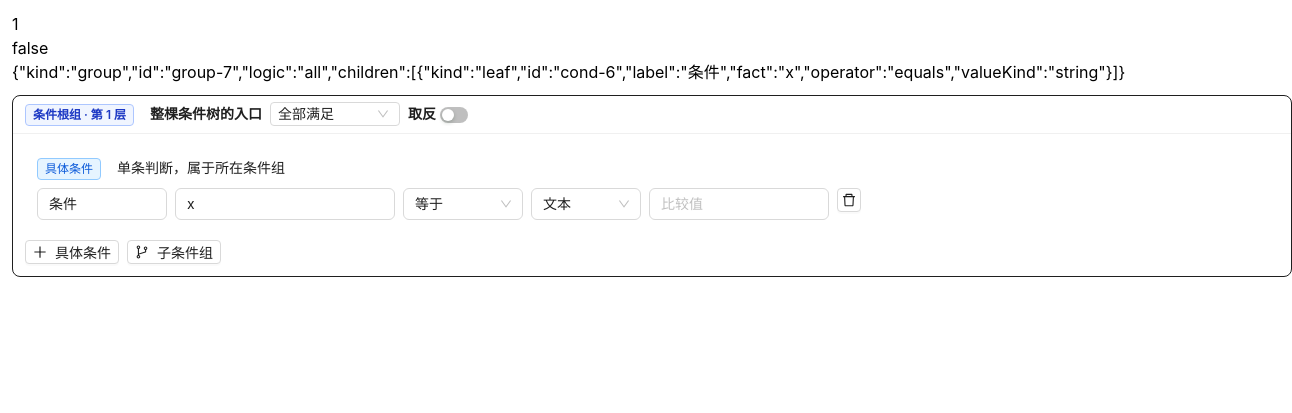
Scenario: ConditionTreeEditor（P1-2 递归条件树组件） › 新增条件后叶子数增加
Expected: the text with test id "leaf-count" reads "1", [12,14,18,34]
What coordinates should you click on to do the following:
click the button with aria-label "新增具体条件"
I would click on:
 (72, 252)
Its box is [25,240,119,264].
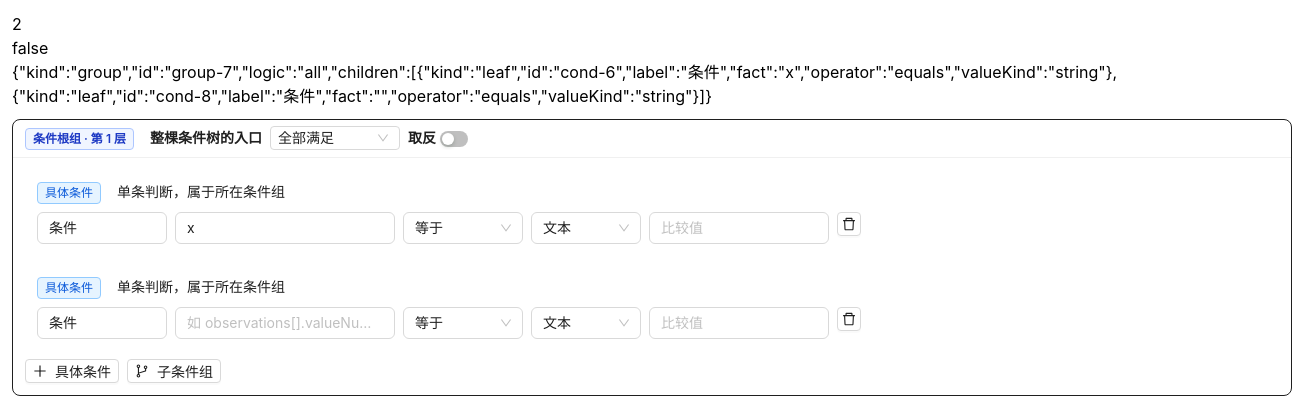
Now the text with test id "leaf-count" reads "2", box [12,14,22,34]
